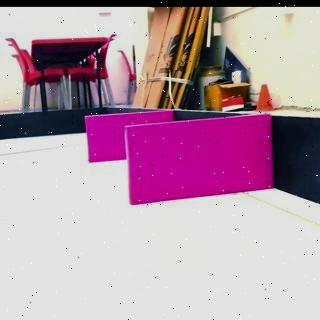xparking: (126, 124, 272, 202), (87, 116, 123, 160)
